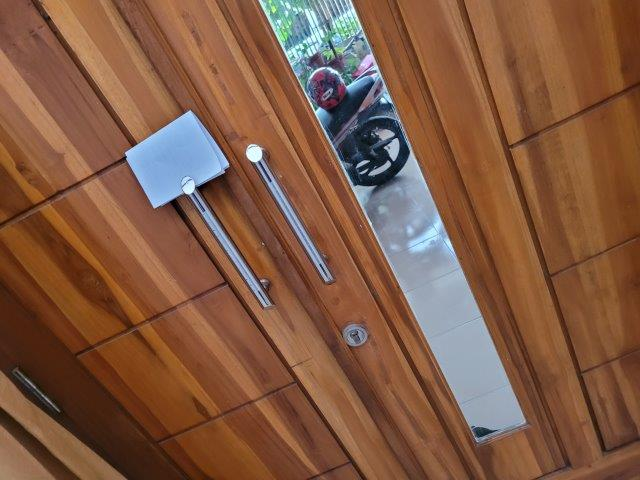kertas: (123, 110, 232, 211)
